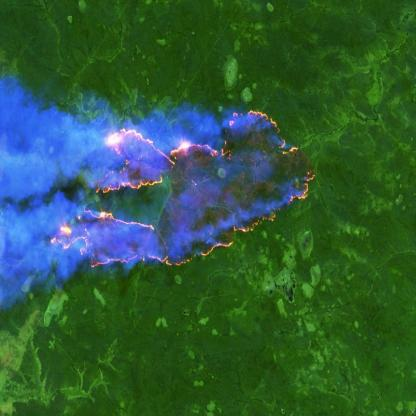fire: (48, 106, 316, 274)
